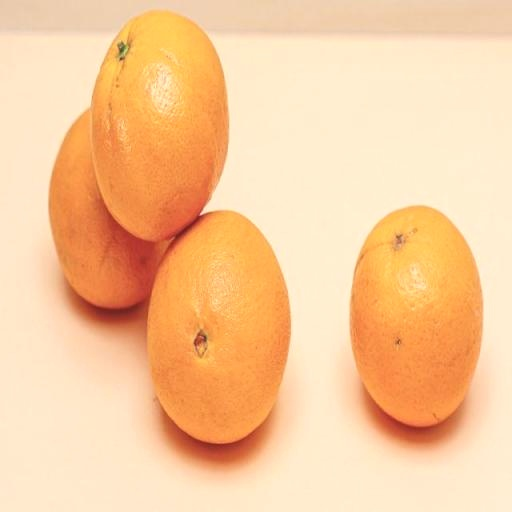fruit: (148, 212, 290, 443), (92, 12, 228, 240), (351, 207, 482, 426), (49, 110, 166, 308)
